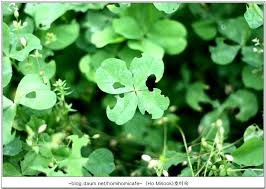4-clover: (95, 53, 173, 123)
